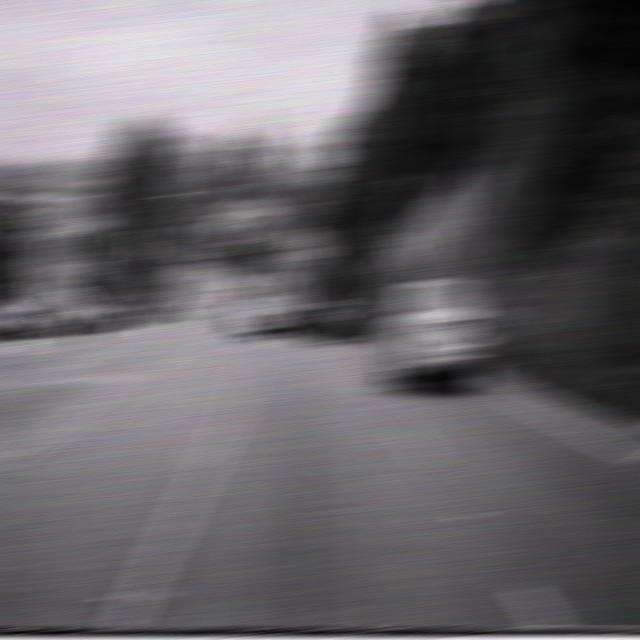pedestrianCrossing: (388, 227, 424, 268)
